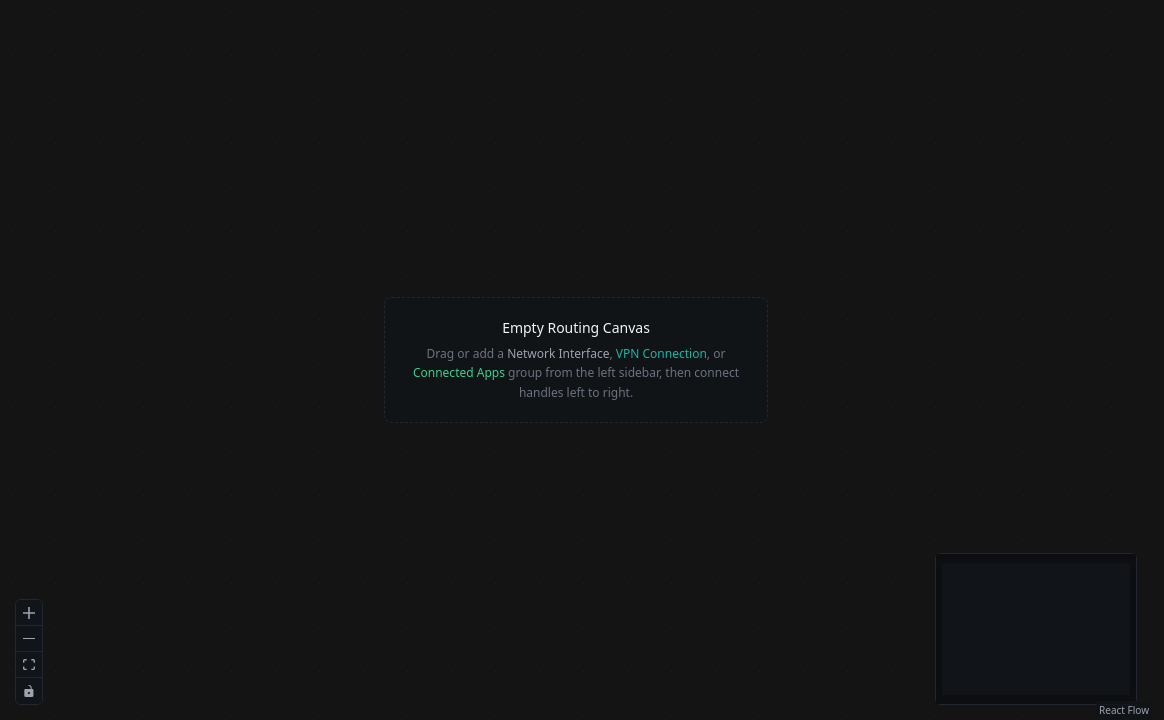
FlowCanvas, Sidebar, and Custom Nodes › opens a node context menu on right-click, filters nodes, adds a node, and closes on Escape
This screenshot has width=1164, height=720.
Right-click the element with class "react-flow__pane" at (576, 360), box [0,0,1152,719]
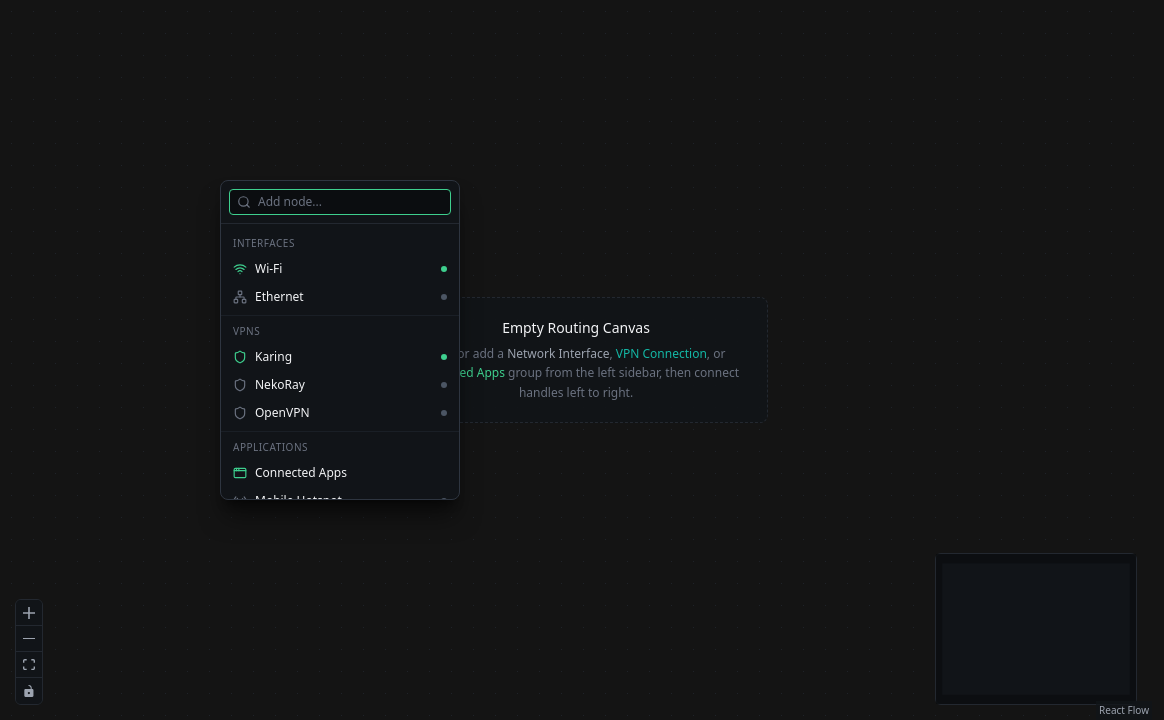
Expected: the menu named "Add node menu" is shown, [220,180,460,500]
# Search filters down to Ethernet and hides Karing
Type "Ethernet" into the field named "Search nodes to add" at (340, 202), box [229,189,451,215]
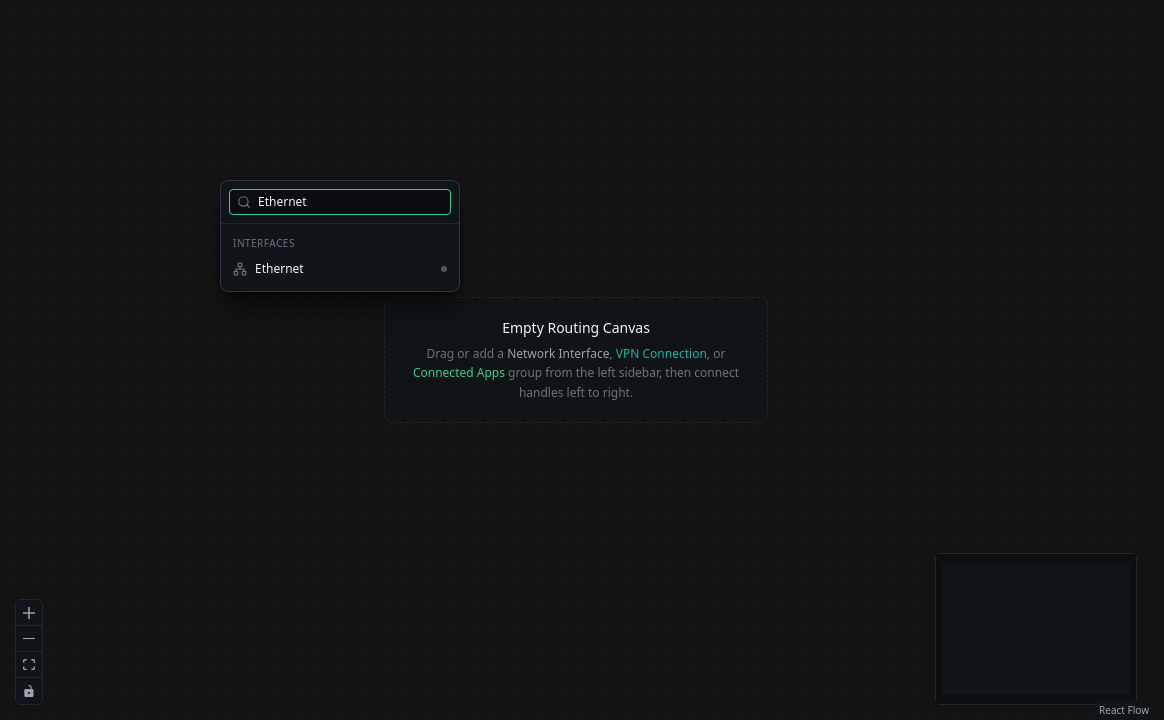
Expected: the menu item "Karing" is gone
Click the menu item "Ethernet" at (340, 269), box [221,255,459,283]
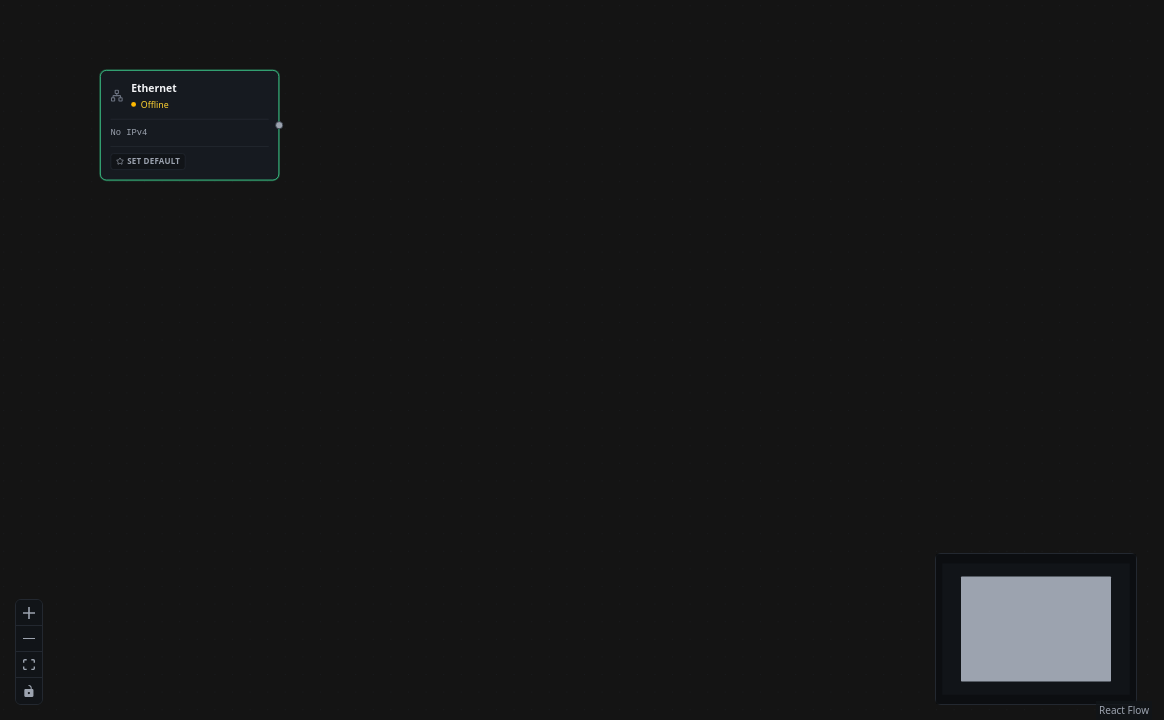
Expected: the menu "Add node menu" is gone
# Re-open menu and verify Escape closes it
Right-click the element with class "react-flow__pane" at (190, 125), box [100,70,279,180]
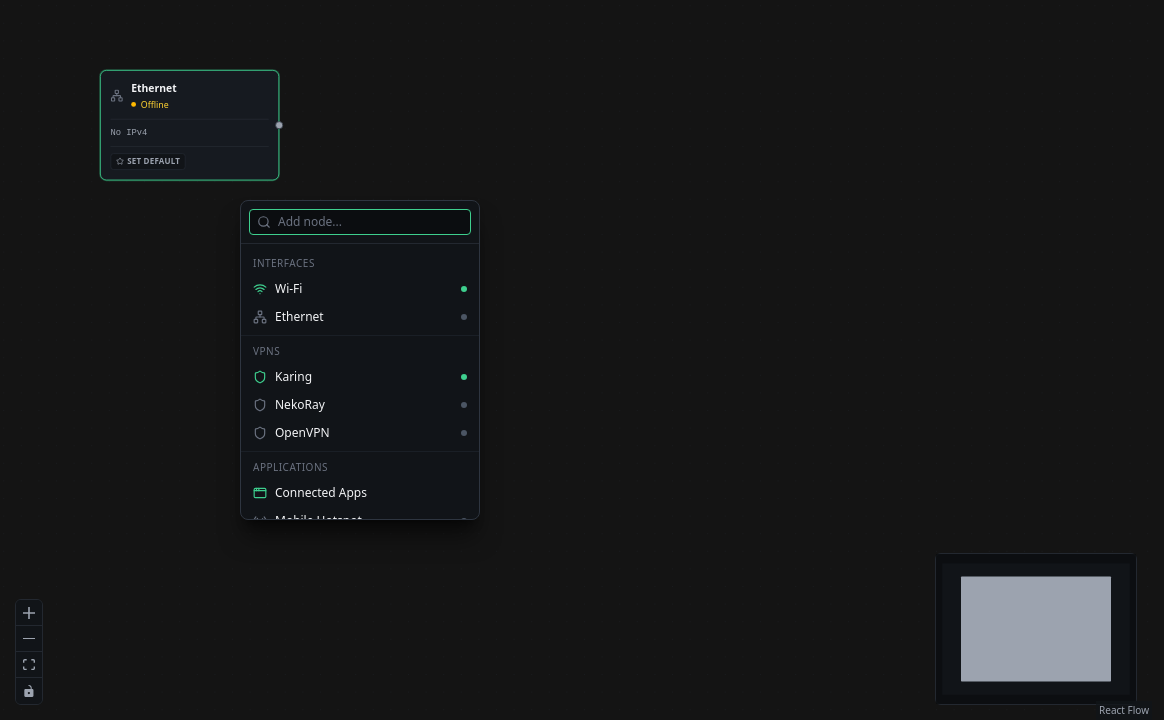
Expected: the menu named "Add node menu" is shown, [240,200,480,520]
Press Escape
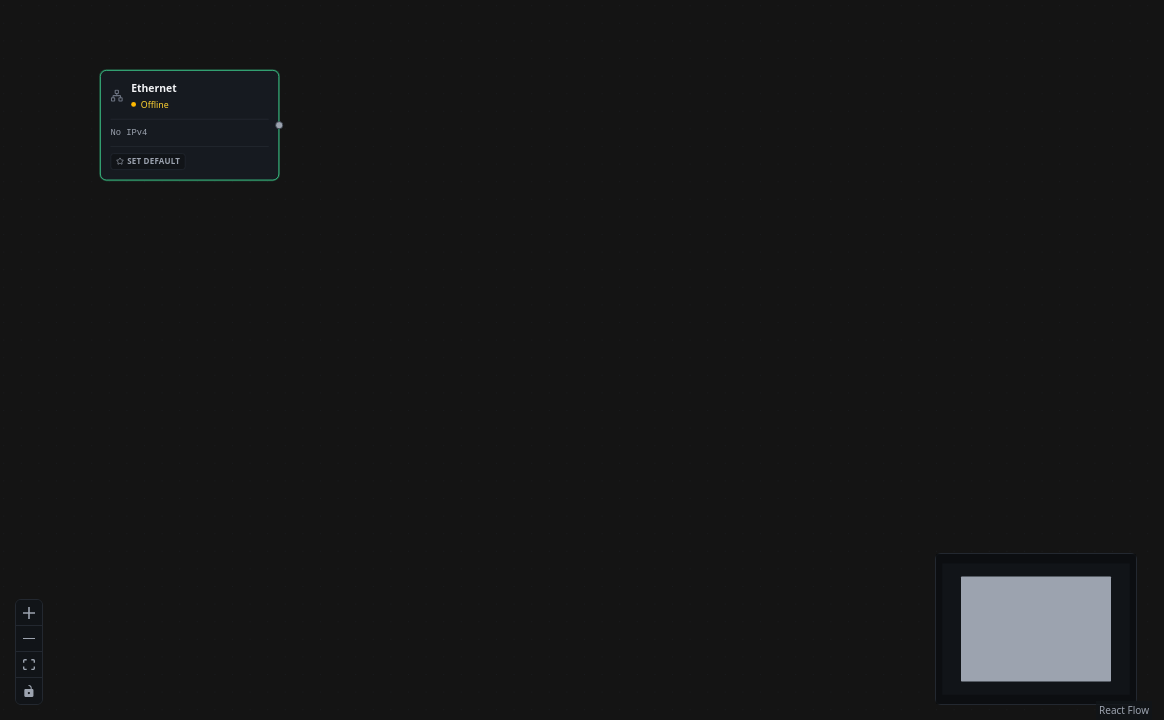
Expected: the menu "Add node menu" is gone
